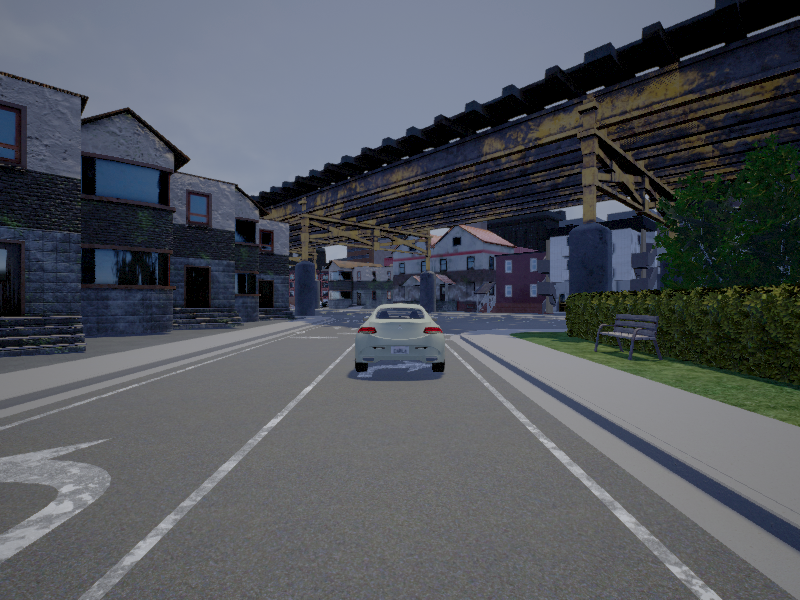Benign: (355, 302, 445, 375)
